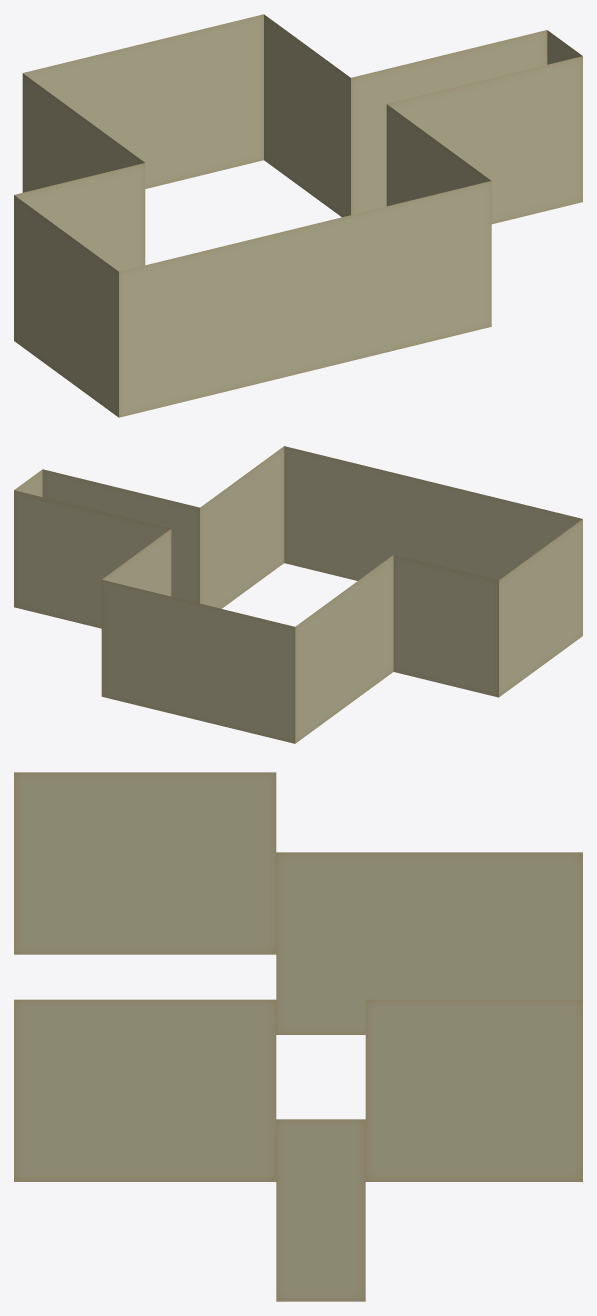
The model's file is Walls.fbx.
The picture shows the model from 3 angles, top to bottom: view 1: azimuth 30°, elevation 25°; view 2: azimuth 150°, elevation 25°; view 3: azimuth 270°, elevation 25°; orthographic projection. The views are drawn at different scales.
Parts seen in each view (by area): view 1: Walls; view 2: Walls; view 3: Walls.
Part boxes in pixels (box(x1,y1,x2,y2)): Walls: box(14, 14, 582, 417); Walls: box(14, 446, 582, 743); Walls: box(14, 772, 582, 1301).
Bounding box in the file's own units: 2051 × 503 × 1421.
